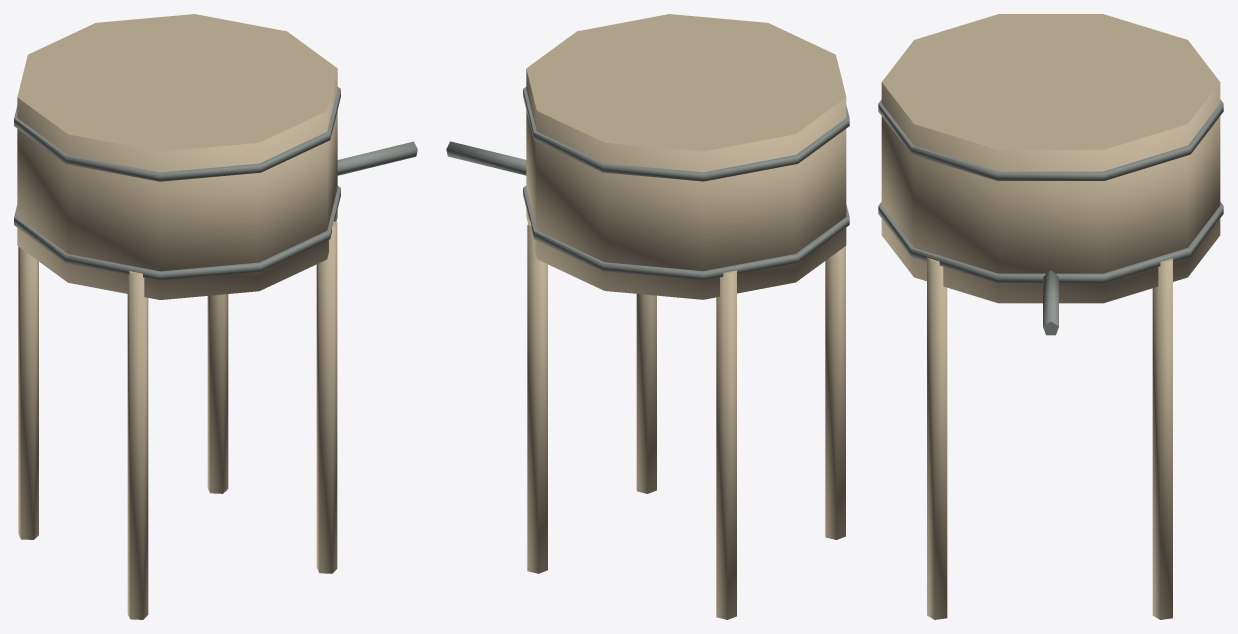
The model's file is tyne-water-tower_lod1.glb.
3 renders of one model, left to right at view 1: azimuth 30°, elevation 25°; view 2: azimuth 150°, elevation 25°; view 3: azimuth 270°, elevation 25°, orthographic. The views are drawn at different scales.
Parts seen in each view (by area): view 1: RF_Tank, RF_TankLeg.001, RF_TankLeg.003, RF_TankLeg.002, RF_TankLeg, RF_TankBand, RF_TankBand.001, RF_WaterPipe; view 2: RF_Tank, RF_TankLeg.002, RF_TankLeg, RF_TankLeg.001, RF_TankLeg.003, RF_TankBand, RF_TankBand.001, RF_WaterPipe; view 3: RF_Tank, RF_TankLeg.003, RF_TankLeg, RF_TankBand, RF_TankBand.001, RF_WaterPipe.
Part boxes in pixels (<box>): RF_Tank: <box>17,14,337,299</box>; RF_TankLeg.001: <box>127,271,148,619</box>; RF_TankLeg.003: <box>316,221,337,573</box>; RF_TankLeg.002: <box>18,246,38,539</box>; RF_TankLeg: <box>207,294,228,493</box>; RF_TankBand: <box>14,87,340,181</box>; RF_TankBand.001: <box>14,186,340,280</box>; RF_WaterPipe: <box>337,141,417,175</box>; RF_Tank: <box>526,14,846,299</box>; RF_TankLeg.002: <box>716,270,736,619</box>; RF_TankLeg: <box>527,220,547,573</box>; RF_TankLeg.001: <box>825,246,845,539</box>; RF_TankLeg.003: <box>636,294,656,493</box>; RF_TankBand: <box>523,87,849,181</box>; RF_TankBand.001: <box>523,186,849,280</box>; RF_WaterPipe: <box>446,141,526,175</box>; RF_Tank: <box>881,14,1220,303</box>; RF_TankLeg.003: <box>927,257,947,619</box>; RF_TankLeg: <box>1152,258,1172,619</box>; RF_TankBand: <box>878,99,1223,180</box>; RF_TankBand.001: <box>878,202,1223,283</box>; RF_WaterPipe: <box>1043,270,1058,335</box>.
Size of the model in its own units: 7.91 by 9.5 by 6.12.
